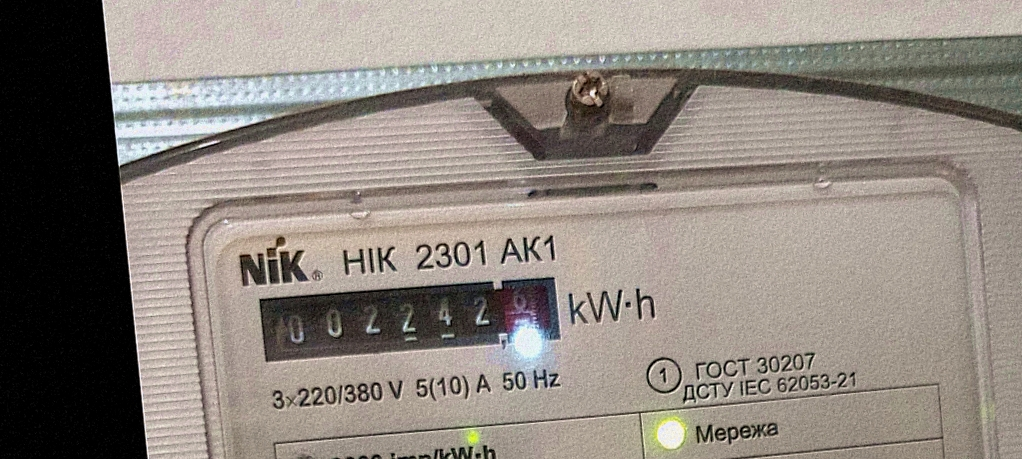0: (285, 312, 308, 347), (323, 306, 345, 340)
2: (361, 302, 383, 336), (397, 300, 418, 335), (471, 294, 491, 328)
4: (435, 294, 454, 328)
6: (510, 285, 529, 313)
screen: (247, 259, 572, 379)
